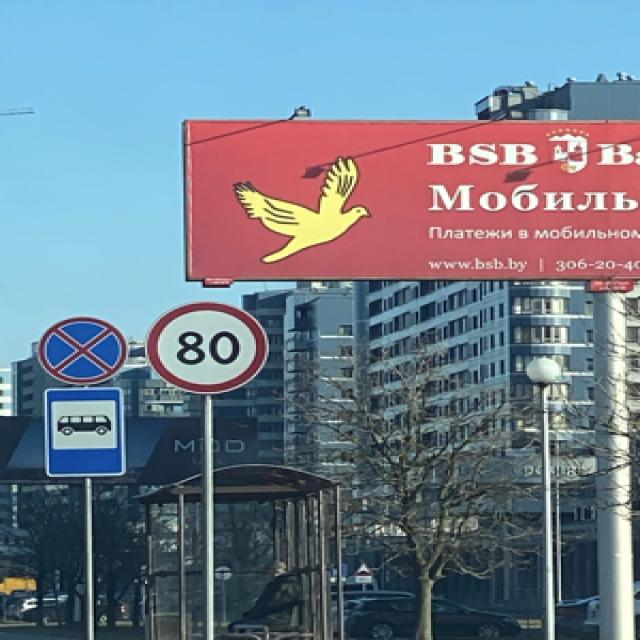speedlimit: (140, 299, 266, 395)
